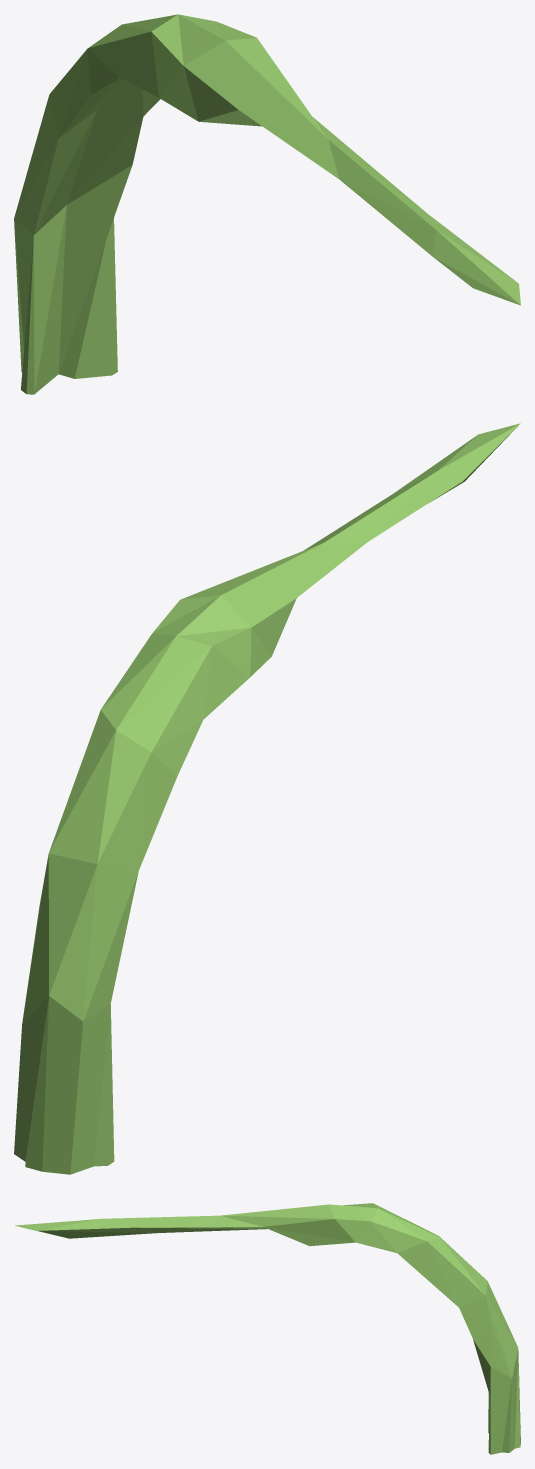
Rendered from stm_env_VeniceFlyTrapStem.fbx.
3 renders of one model, top to bottom at view 1: azimuth 30°, elevation 25°; view 2: azimuth 150°, elevation 25°; view 3: azimuth 270°, elevation 25°, orthographic. The views are drawn at different scales.
Visible parts, largest first — view 1: stm_env_VFT_Stem_003_1; view 2: stm_env_VFT_Stem_003_1; view 3: stm_env_VFT_Stem_003_1.
Boxes of the visible parts, x1,y1,x2,y2 form: stm_env_VFT_Stem_003_1: [14, 14, 520, 394]; stm_env_VFT_Stem_003_1: [14, 423, 520, 1174]; stm_env_VFT_Stem_003_1: [15, 1203, 520, 1454].
Size of the model in its own units: 62.12 by 285 by 549.
